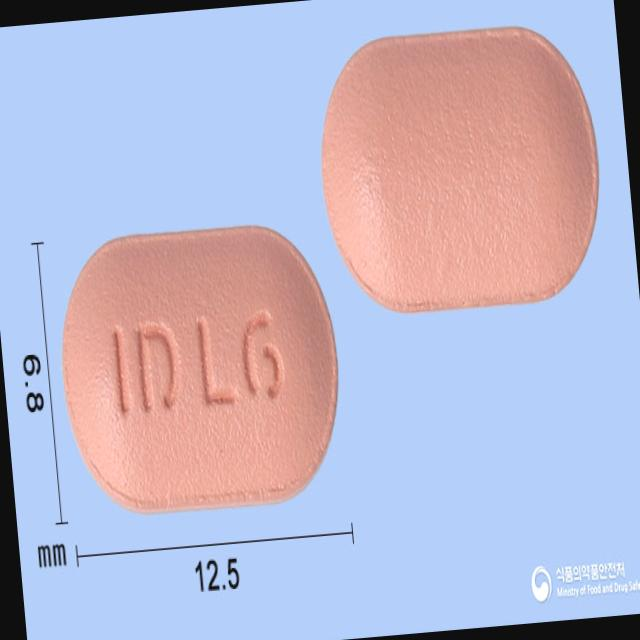Levofexin - 500mg: (51, 218, 351, 520)
